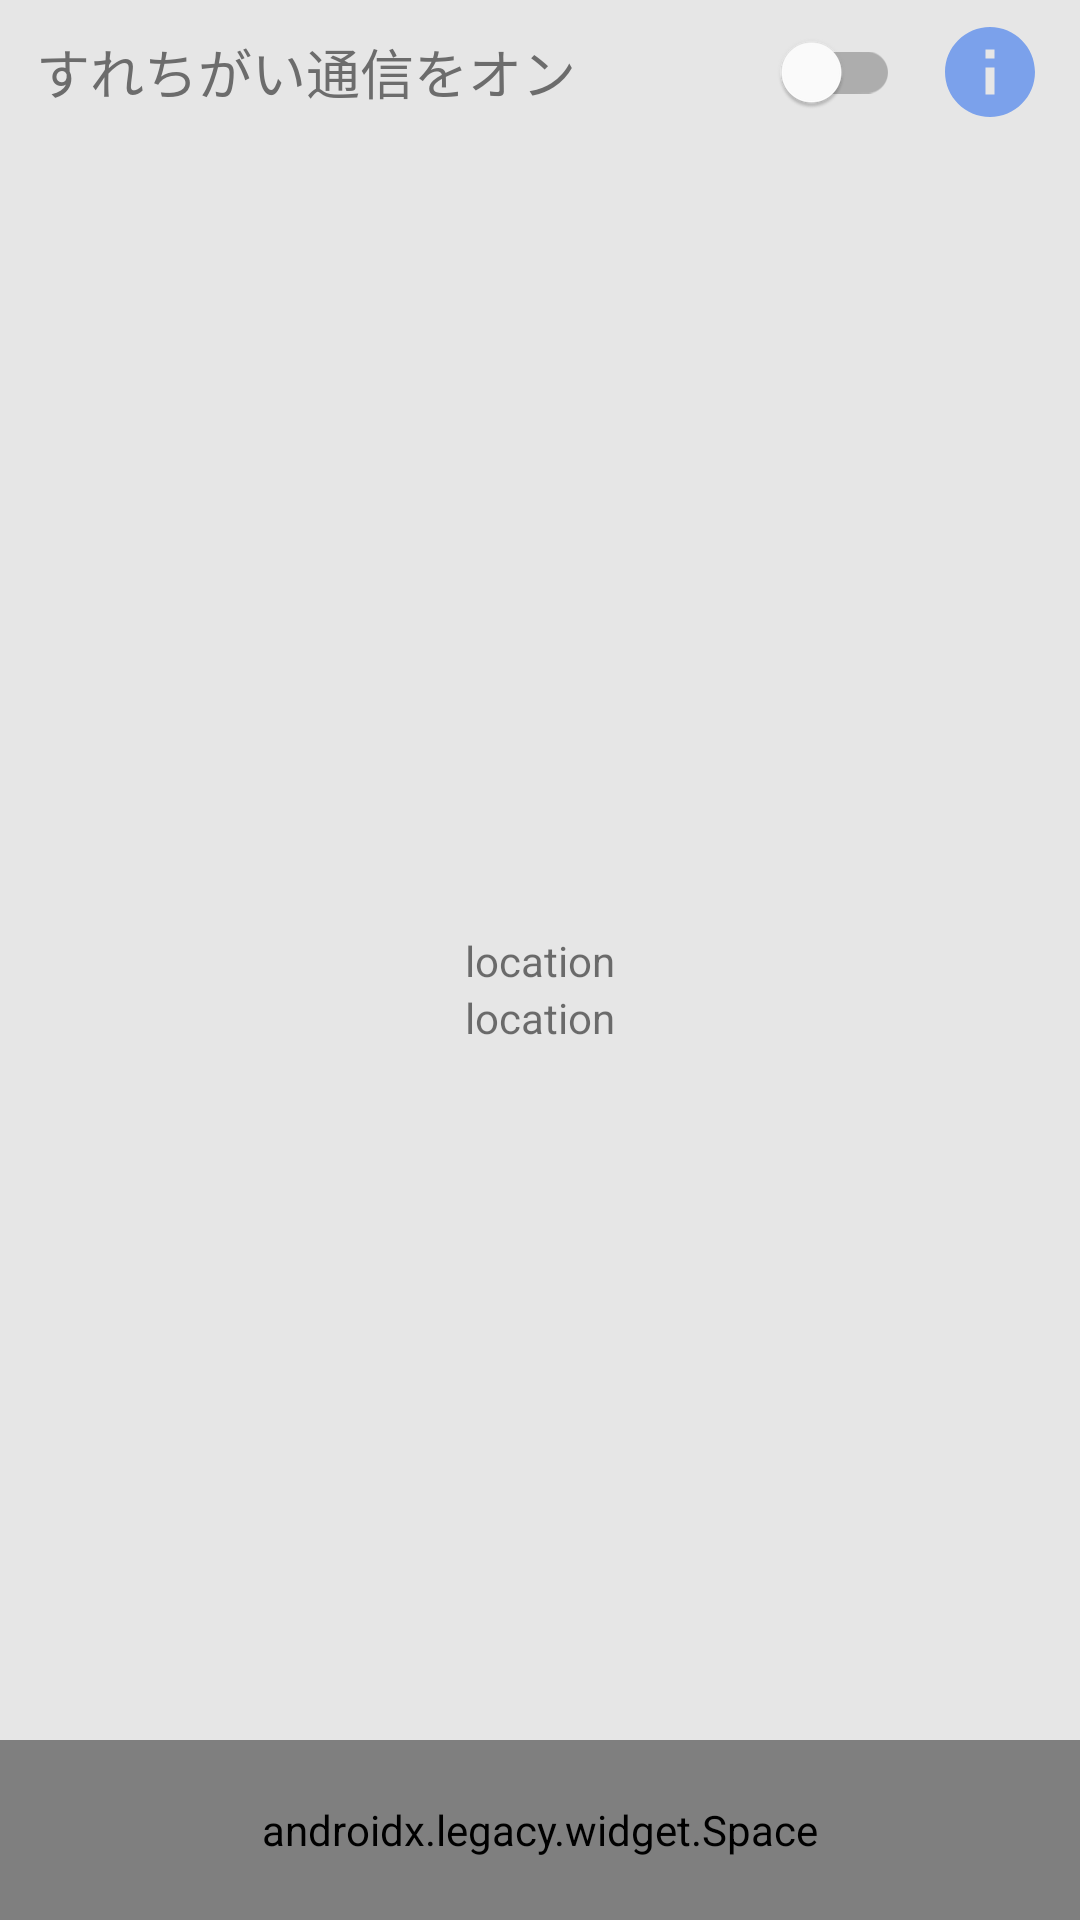

Locate icon controls on the screen. Image size 1080w x 1920h, boxes as bbox=(x1, y1, x2, y2).
info: bbox=(945, 27, 1035, 117)
